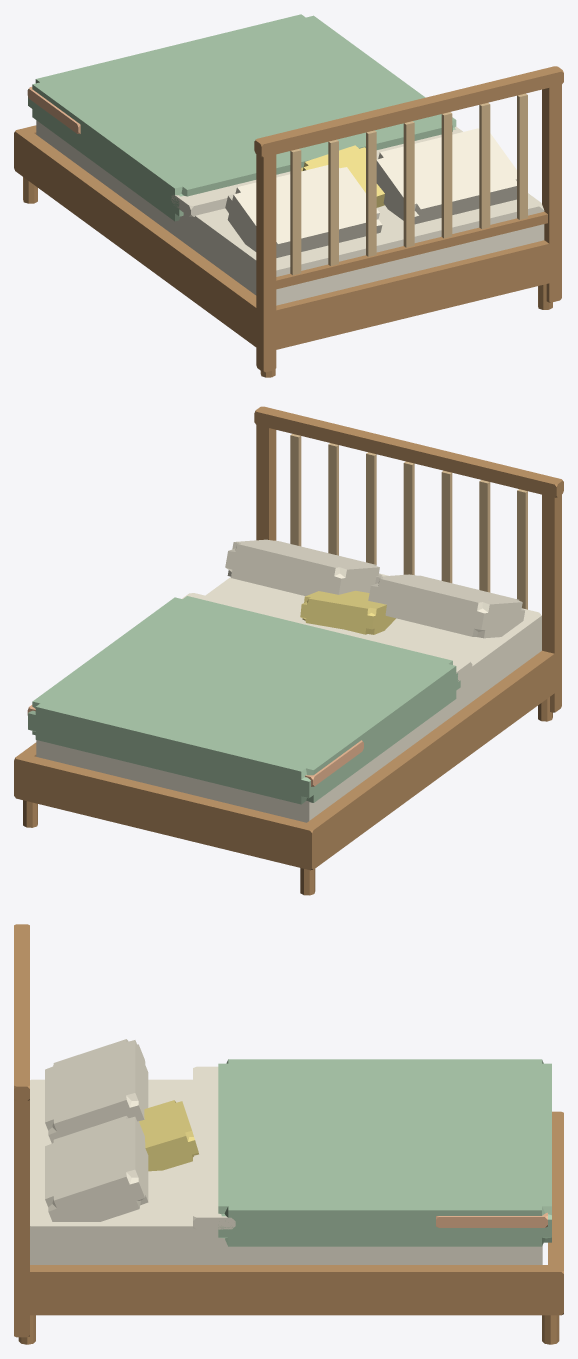
The model's file is Furniture_Bed.glb.
The picture shows the model from 3 angles, top to bottom: view 1: azimuth 30°, elevation 25°; view 2: azimuth 150°, elevation 25°; view 3: azimuth 270°, elevation 25°; orthographic projection. The views are drawn at different scales.
Parts seen in each view (by area): view 1: Furniture_Bed; view 2: Furniture_Bed; view 3: Furniture_Bed.
Boxes of the visible parts, <box> form: Furniture_Bed: <box>14,14,563,377</box>; Furniture_Bed: <box>14,406,563,895</box>; Furniture_Bed: <box>14,924,563,1344</box>.
Size of the model in its own units: 1.44 by 1.08 by 2.06.
